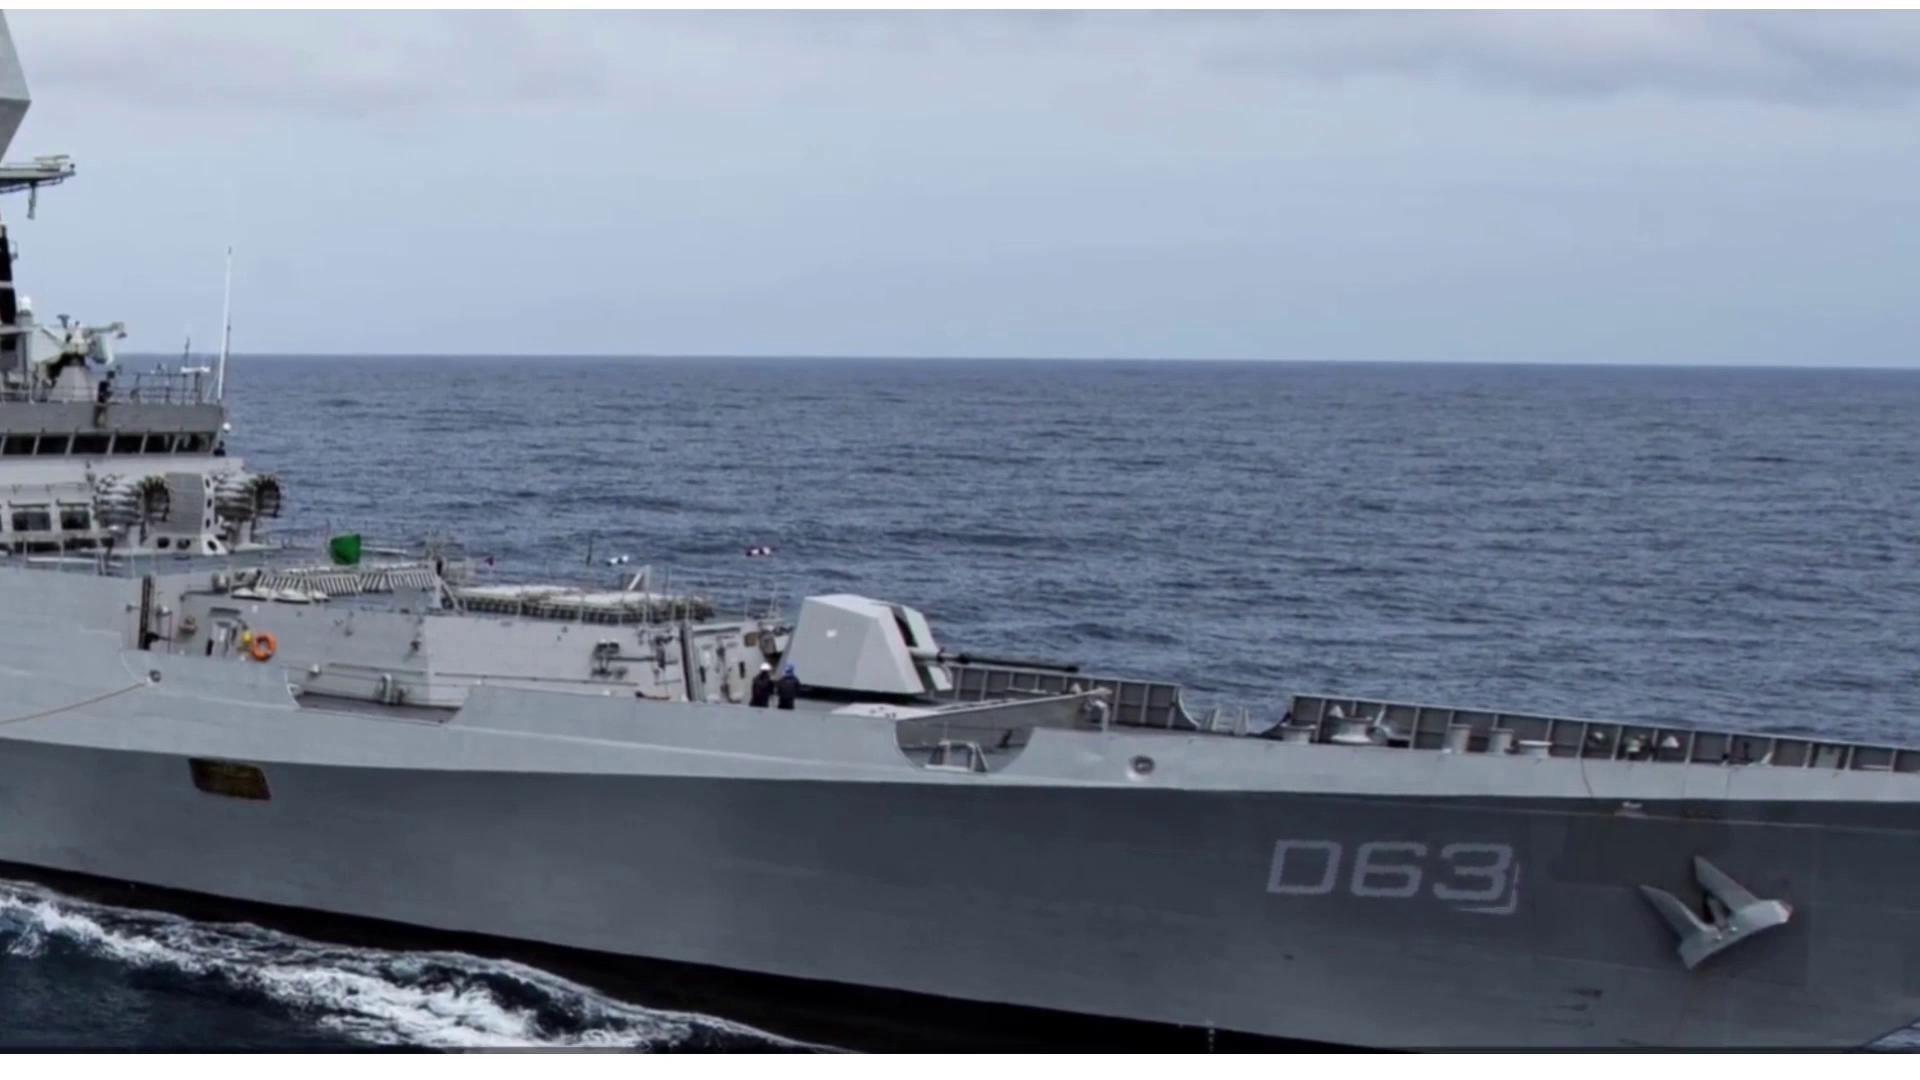OCR: (1266, 833, 1526, 922)
